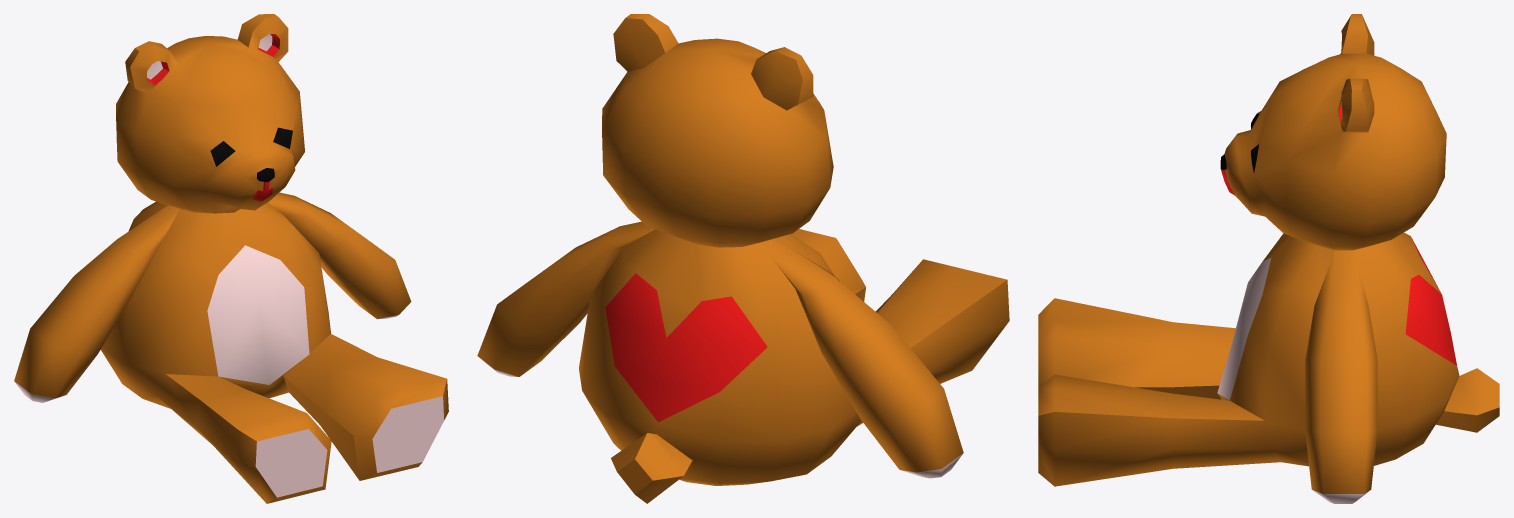
Rendered from Gomdol1-4.fbx.
3 views of the same model, side by side, from view 1: azimuth 30°, elevation 25°; view 2: azimuth 150°, elevation 25°; view 3: azimuth 270°, elevation 25° (orthographic). The views are drawn at different scales.
Visible parts, largest first — view 1: Object002; view 2: Object002; view 3: Object002.
Part boxes in pixels (bbox=[...]): Object002: bbox=[14, 14, 448, 503]; Object002: bbox=[477, 14, 1009, 503]; Object002: bbox=[1038, 14, 1499, 503].
Bounding box in the file's own units: 2.52 × 2.26 × 2.38.
